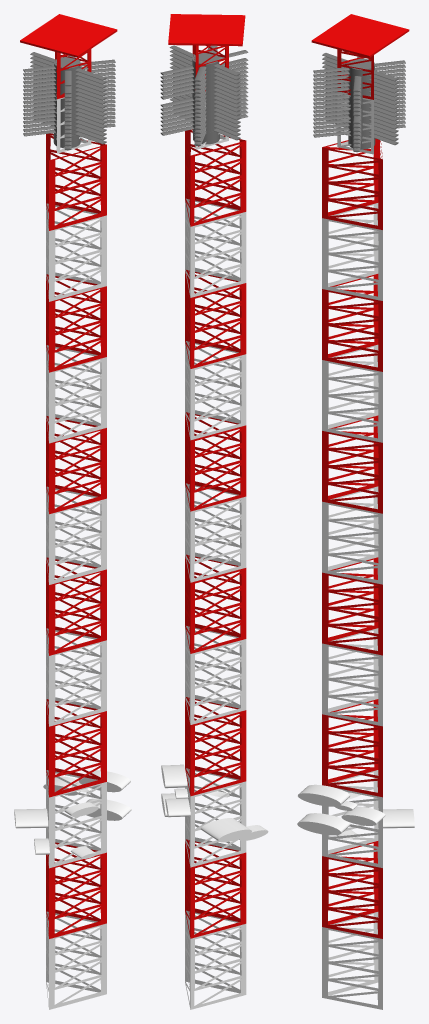
File: antena_deformed_3.glb
3 renders of one model, left to right at view 1: azimuth 90°, elevation 25°; view 2: azimuth 210°, elevation 25°; view 3: azimuth 270°, elevation 25°, orthographic.
Parts seen in each view (by area): view 1: Maszt w Zygrach_001; view 2: Maszt w Zygrach_001; view 3: Maszt w Zygrach_001.
Boxes of the visible parts, x1,y1,x2,y2 form: Maszt w Zygrach_001: (14,14,131,1009); Maszt w Zygrach_001: (160,14,268,1009); Maszt w Zygrach_001: (297,14,414,1009).
Bounding box in the file's own units: 0.7763 × 7.84 × 0.8691.
